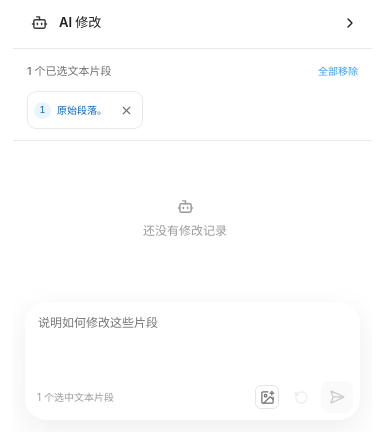
Test: ArticleAssistant › applies an AI rewrite directly and retains the article conversation
This screenshot has width=389, height=443.
In the text box with placeholder "说明如何修改这些片段": (192, 340) [26,303,359,377], type "表达更简洁"
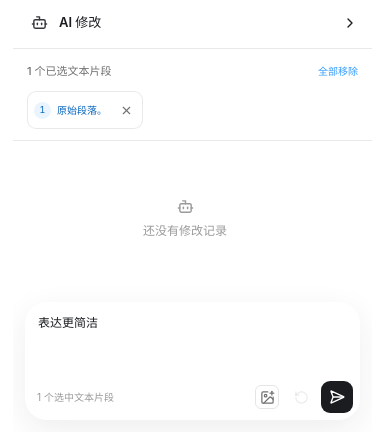
Click the button named "应用 AI 修改": (337, 397) [321,381,353,413]
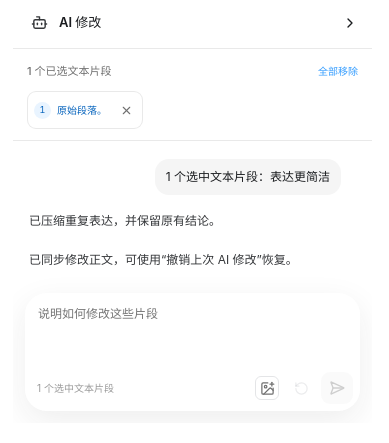
Expected: the text "已压缩重复表达，并保留原有结论。 已同步修改正文，可使用“撤销上次 AI 修改”恢复。" is shown, [29,211,341,270]
